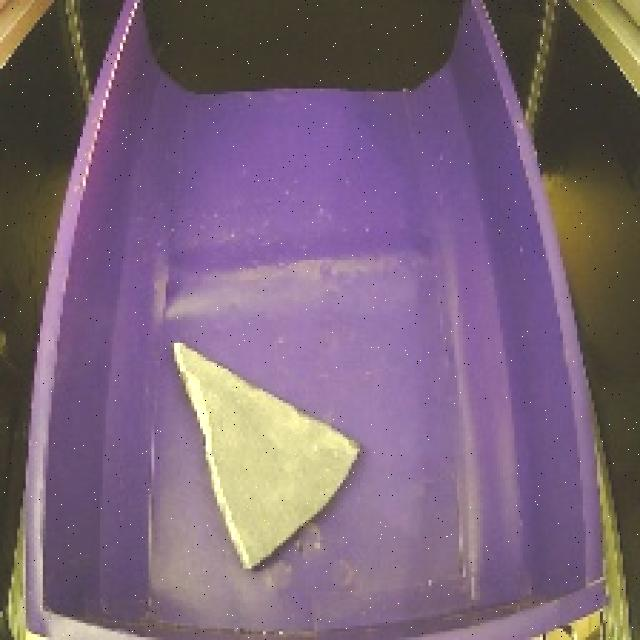china: (168, 332, 368, 579)
